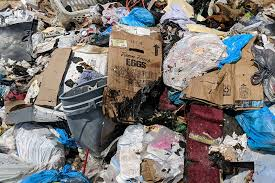garbage: (2, 2, 273, 182)
